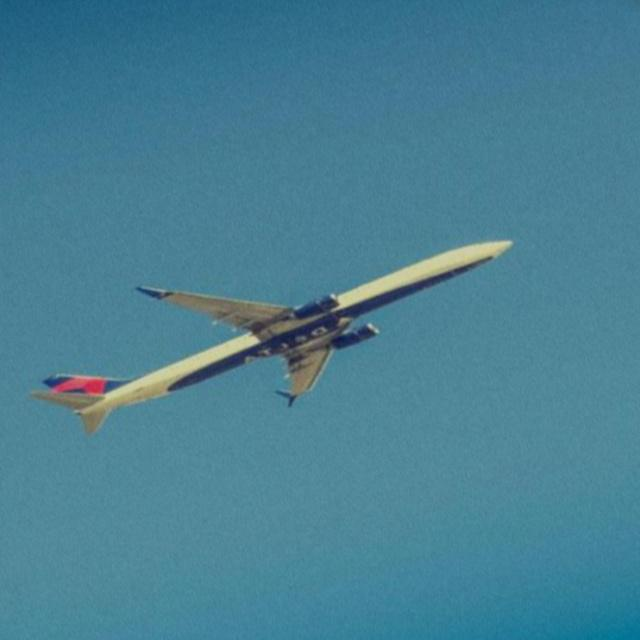airplane: (31, 230, 523, 426)
